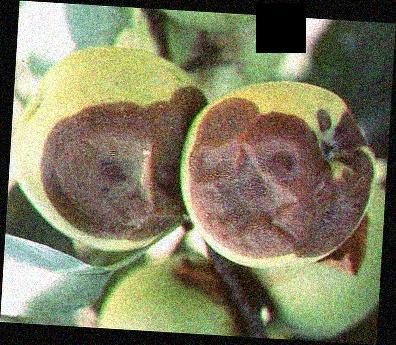rotten apple: (11, 38, 201, 258), (188, 78, 384, 274)
